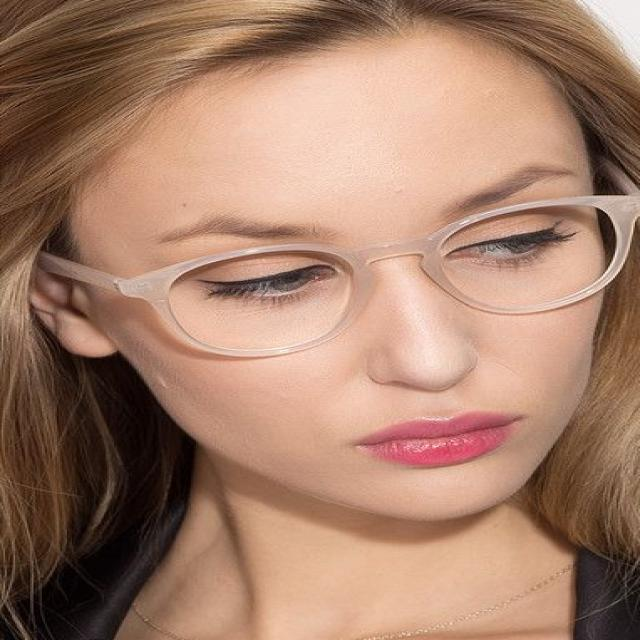Glasses: (30, 155, 640, 367)
